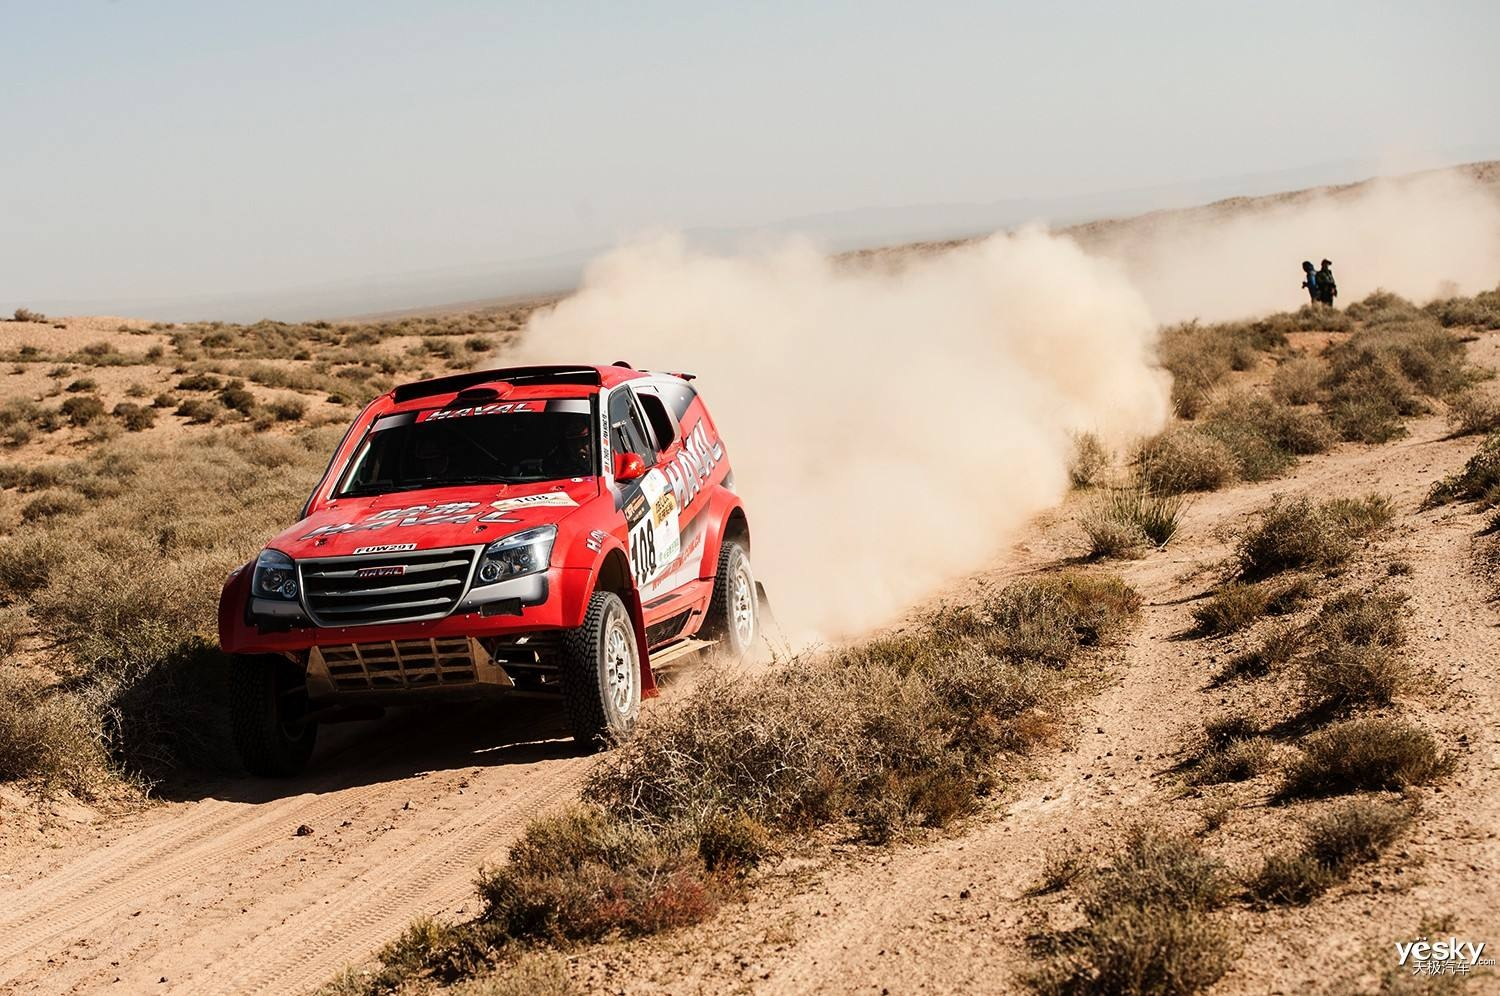racing car: (227, 355, 771, 728)
